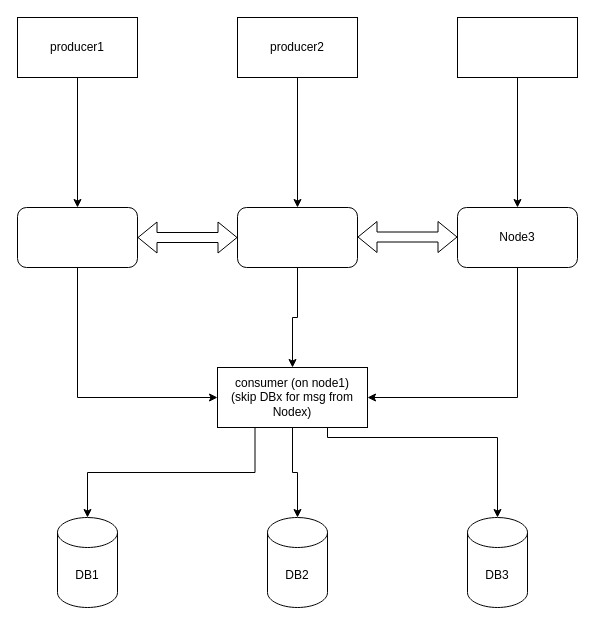
This 595x625 diagram has some shape labels left out. Here are the shapes that lost their labels. From the top down, the centre of each, then its label:
At point (517, 47): "producer3".
At point (77, 237): "Node1".
At point (297, 237): "Node2".
